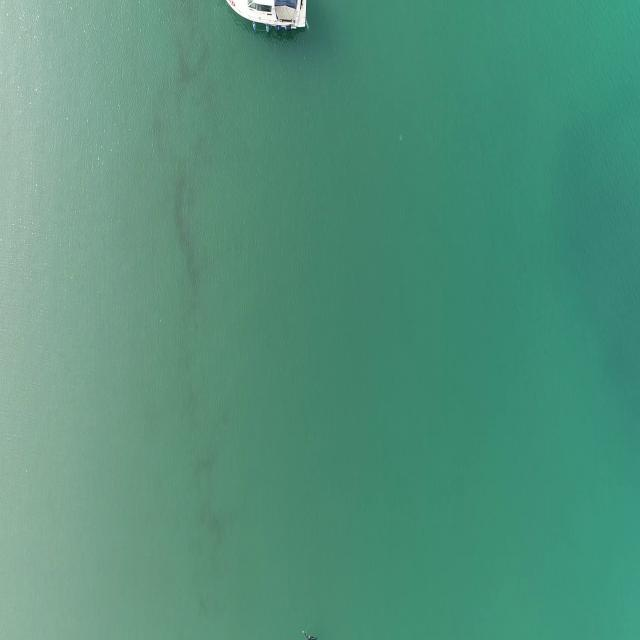boat: (225, 0, 310, 44)
